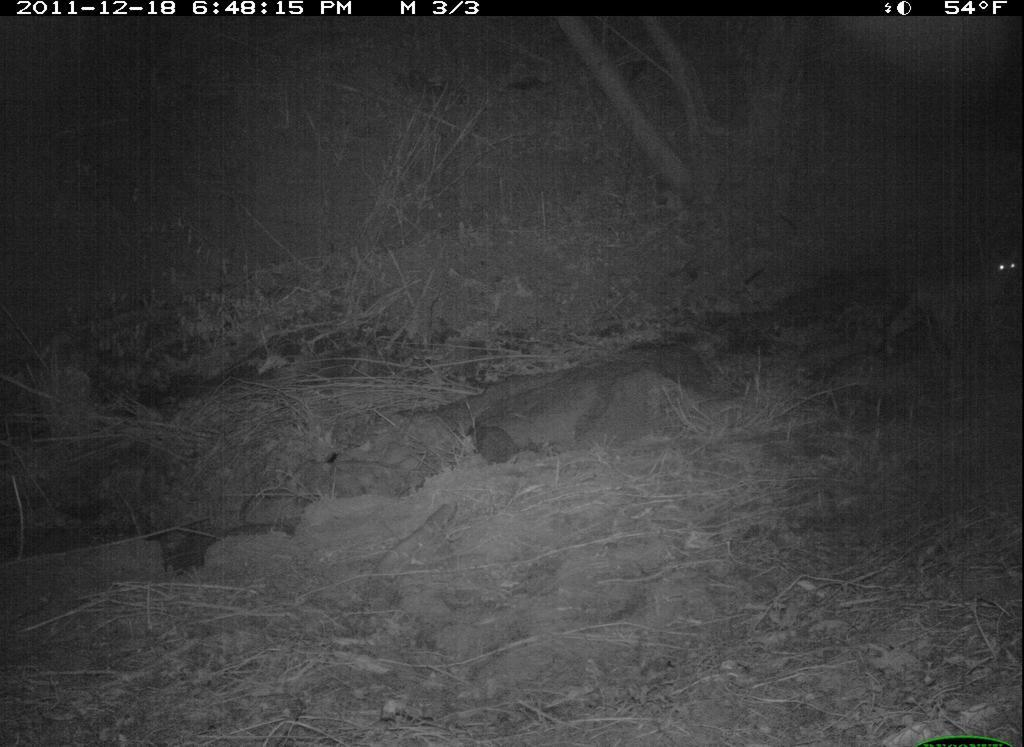bobcat: (873, 241, 1023, 368)
